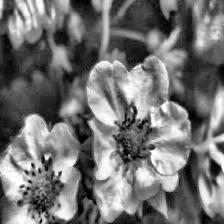Blossom Blight: (17, 155, 68, 224)
